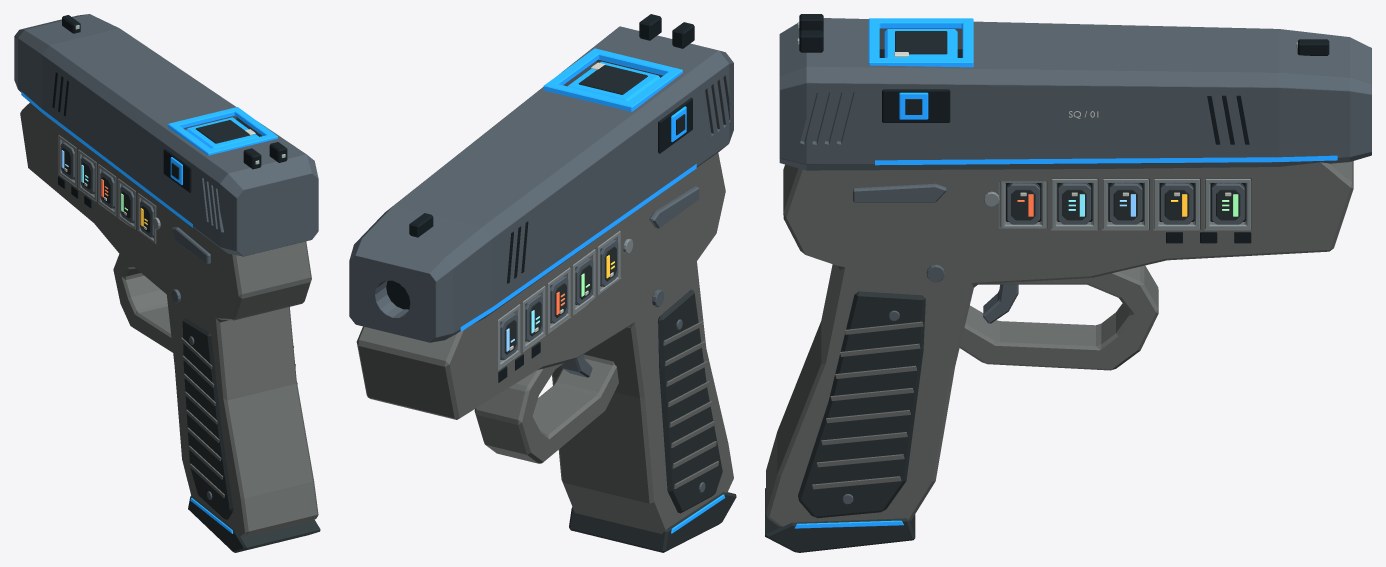
The model's file is SquareHandgun.glb.
3 renders of one model, left to right at view 1: azimuth 30°, elevation 25°; view 2: azimuth 150°, elevation 25°; view 3: azimuth 270°, elevation 25°, orthographic. The views are drawn at different scales.
Visible parts, largest first — view 1: Frame___continuous_receiver_and_swept_grip, Slide___long_tapered_chamfered_shell, Grip___contoured_panel__1, Frame___open_shaped_trigger_guard, Grip___fitted_heel_plate, Dock___fitted_rim, Accent___slide_seam__1, SquareInsert___dark_square_face, SquareInsert___removable_ceramic_cartridge, Controls___slim_slide_release__1, Dock___side_recess__1; view 2: Slide___long_tapered_chamfered_shell, Frame___continuous_receiver_and_swept_grip, Frame___open_shaped_trigger_guard, Grip___contoured_panel__1, Grip___fitted_heel_plate, Dock___fitted_rim, Accent___slide_seam__1, SquareInsert___dark_square_face, SquareInsert___removable_ceramic_cartridge, Controls___slim_slide_release__1, Dock___side_recess__1, Muzzle___dark_recess (+6 smaller); view 3: Slide___long_tapered_chamfered_shell, Frame___continuous_receiver_and_swept_grip, Grip___contoured_panel_1, Frame___open_shaped_trigger_guard, Grip___fitted_heel_plate, Dock___fitted_rim, Accent___slide_seam_1, Dock___side_recess_1, Controls___slim_slide_release_1, SquareInsert___dark_square_face, RecessedSocketLip.002, RecessedSocketLip.004 (+5 smaller).
Part boxes in pixels (x1,y1,x2,y2): Frame___continuous_receiver_and_swept_grip: [20, 103, 318, 537]; Slide___long_tapered_chamfered_shell: [14, 14, 318, 256]; Grip___contoured_panel__1: [182, 318, 233, 519]; Frame___open_shaped_trigger_guard: [113, 254, 172, 352]; Grip___fitted_heel_plate: [188, 495, 320, 552]; Dock___fitted_rim: [168, 107, 277, 155]; Accent___slide_seam__1: [21, 91, 192, 227]; SquareInsert___dark_square_face: [196, 120, 249, 143]; SquareInsert___removable_ceramic_cartridge: [186, 117, 258, 148]; Controls___slim_slide_release__1: [171, 227, 210, 264]; Dock___side_recess__1: [163, 149, 191, 192]; Slide___long_tapered_chamfered_shell: [349, 26, 733, 342]; Frame___continuous_receiver_and_swept_grip: [356, 153, 733, 533]; Frame___open_shaped_trigger_guard: [474, 354, 618, 463]; Grip___contoured_panel__1: [658, 289, 722, 513]; Grip___fitted_heel_plate: [569, 492, 736, 552]; Dock___fitted_rim: [543, 48, 682, 111]; Accent___slide_seam__1: [460, 164, 696, 331]; SquareInsert___dark_square_face: [578, 65, 647, 94]; SquareInsert___removable_ceramic_cartridge: [567, 61, 659, 101]; Controls___slim_slide_release__1: [649, 186, 699, 228]; Dock___side_recess__1: [658, 97, 692, 153]; Muzzle___dark_recess: [386, 280, 410, 309]; Slide___long_tapered_chamfered_shell: [779, 18, 1371, 170]; Frame___continuous_receiver_and_swept_grip: [766, 161, 1353, 526]; Grip___contoured_panel_1: [798, 291, 925, 518]; Frame___open_shaped_trigger_guard: [959, 265, 1158, 370]; Grip___fitted_heel_plate: [765, 488, 915, 552]; Dock___fitted_rim: [868, 18, 973, 67]; Accent___slide_seam_1: [875, 155, 1337, 165]; Dock___side_recess_1: [882, 89, 950, 122]; Controls___slim_slide_release_1: [853, 183, 946, 202]; SquareInsert___dark_square_face: [895, 31, 947, 54]; RecessedSocketLip.002: [1051, 179, 1097, 229]; RecessedSocketLip.004: [1102, 179, 1148, 229].
Size of the model in its own units: 0.0624 by 0.2289 by 0.249.
